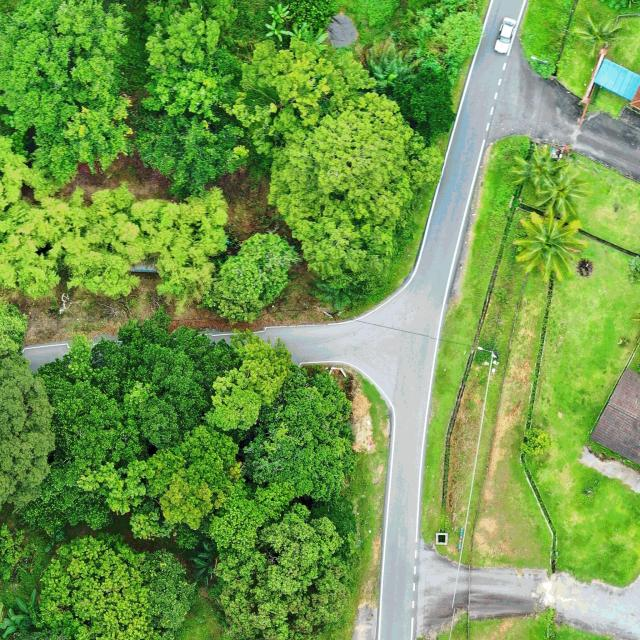Tree: (266, 90, 446, 283), (88, 305, 236, 449), (76, 422, 252, 535), (212, 499, 350, 640), (37, 529, 196, 640), (240, 364, 358, 501), (32, 335, 150, 464), (220, 38, 378, 132), (41, 181, 146, 303), (141, 1, 247, 121), (130, 184, 230, 299), (134, 114, 249, 198), (201, 330, 291, 432), (205, 231, 300, 326), (17, 456, 114, 543), (513, 204, 587, 286), (392, 70, 456, 148), (535, 168, 592, 220), (510, 143, 563, 193), (572, 9, 626, 57), (0, 587, 38, 638), (520, 425, 554, 458), (264, 21, 296, 41), (269, 3, 293, 24)
